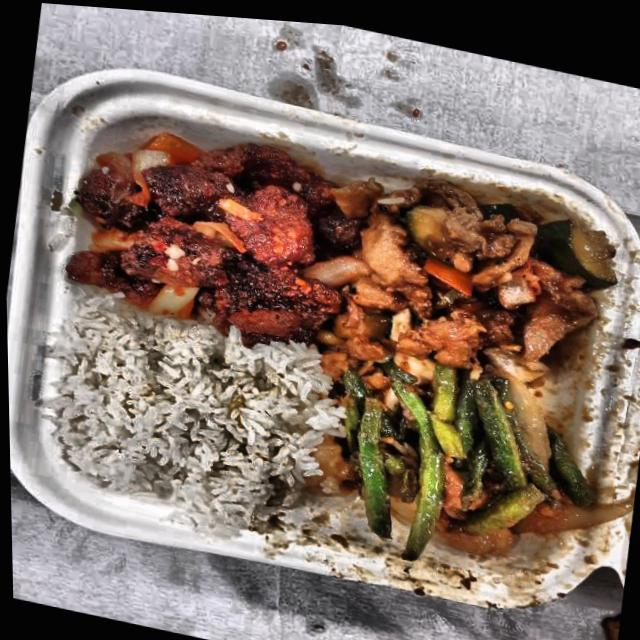Food: (315, 141, 630, 402), (52, 92, 361, 355), (316, 338, 607, 591), (36, 295, 331, 541)
